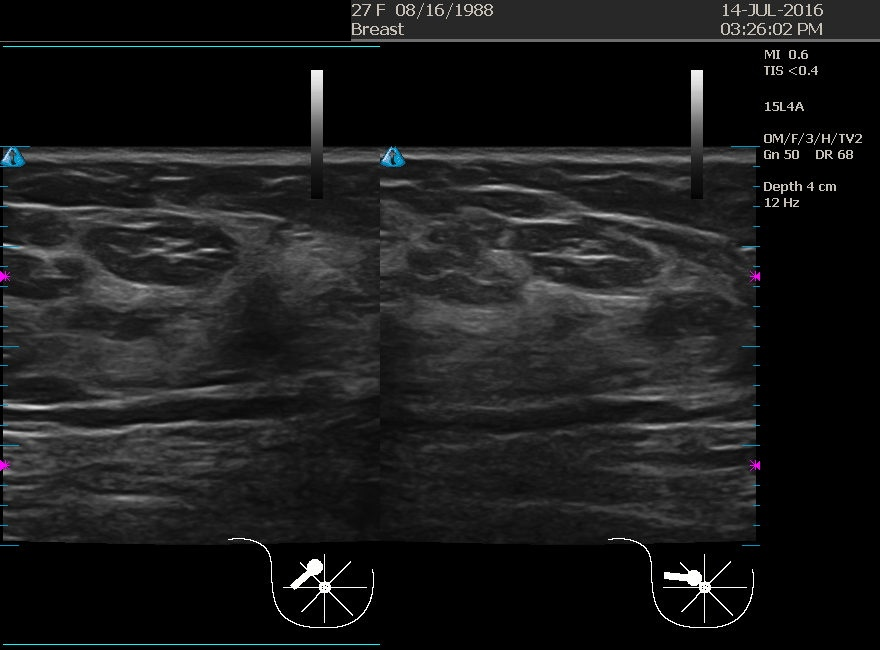Benign: (62, 157, 262, 357), (484, 173, 684, 373)
